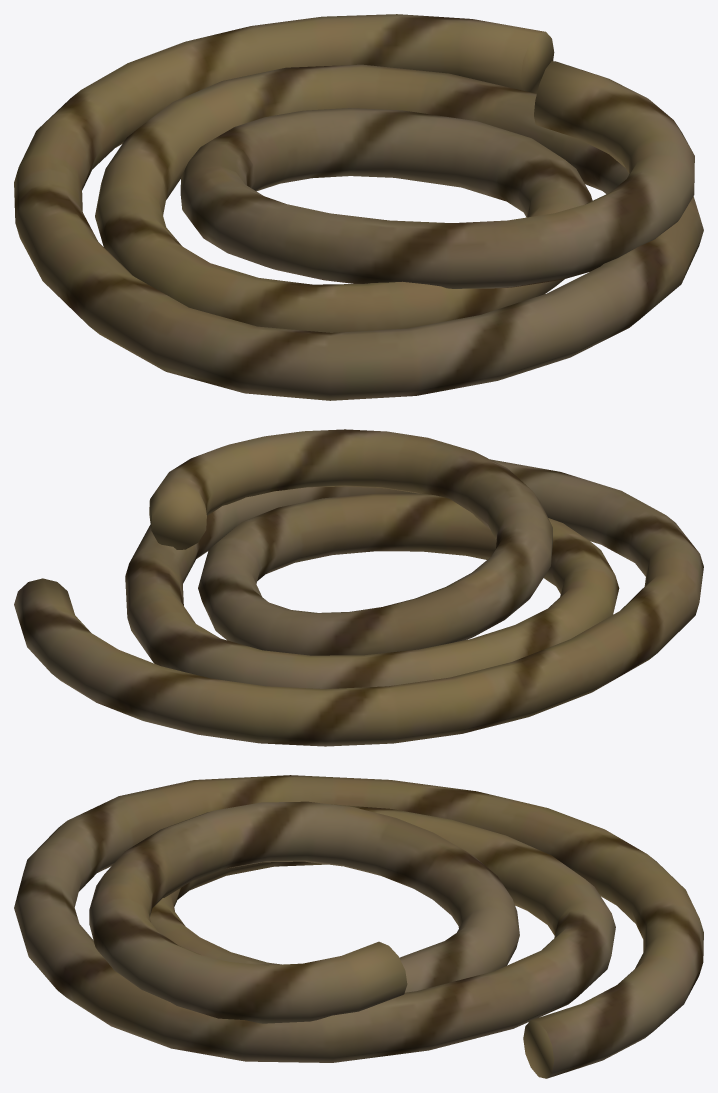
Rendered from Rope 1.glb.
3 renders of one model, top to bottom at view 1: azimuth 30°, elevation 25°; view 2: azimuth 150°, elevation 25°; view 3: azimuth 270°, elevation 25°, orthographic. The views are drawn at different scales.
Parts seen in each view (by area): view 1: Rope_1; view 2: Rope_1; view 3: Rope_1.
Part boxes in pixels (x1,y1,x2,y2): Rope_1: (14, 14, 703, 400); Rope_1: (14, 429, 703, 746); Rope_1: (14, 775, 703, 1078).
Size of the model in its own units: 0.5574 by 0.0979 by 0.6063.
1 material, 1 textured.
